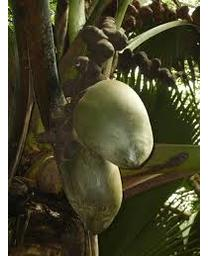coconut: (74, 79, 155, 169), (59, 130, 124, 234)
